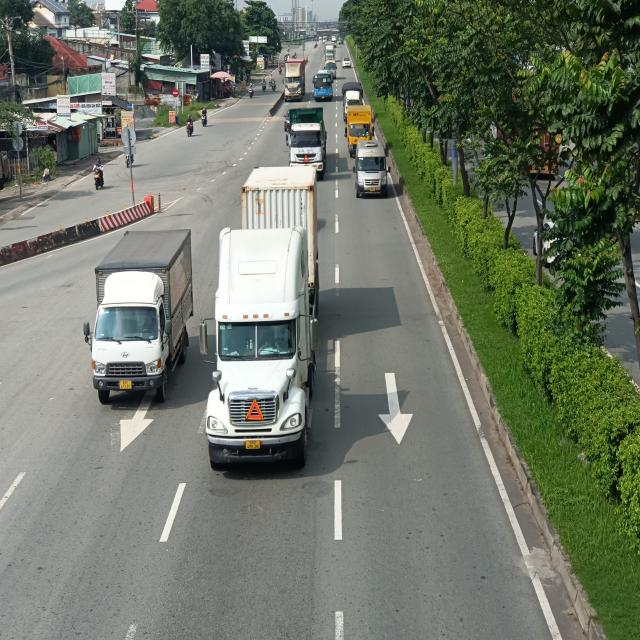car: (341, 58, 352, 68)
coach: (312, 70, 334, 102)
container: (198, 165, 320, 475), (285, 106, 327, 176), (282, 58, 305, 100)
truck: (82, 230, 194, 404), (348, 106, 373, 155), (342, 82, 364, 124), (324, 42, 336, 60)
van: (352, 143, 391, 196)
